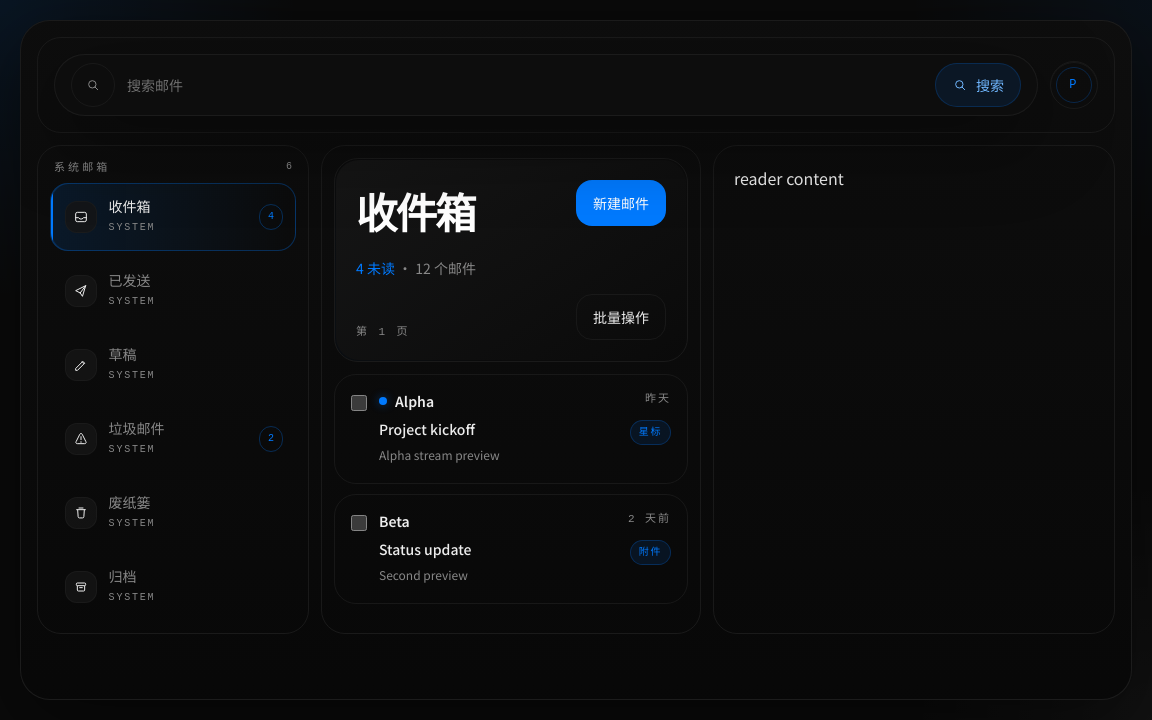
Test case: mailbox-shell › falls back from an invalid route account id before rendering the shell
Expected: the element with test id "thread-list" is shown, [321, 145, 701, 634]
Step 1. Click the button with test id "account-chip-trigger" → (1074, 85), box [1050, 61, 1098, 109]
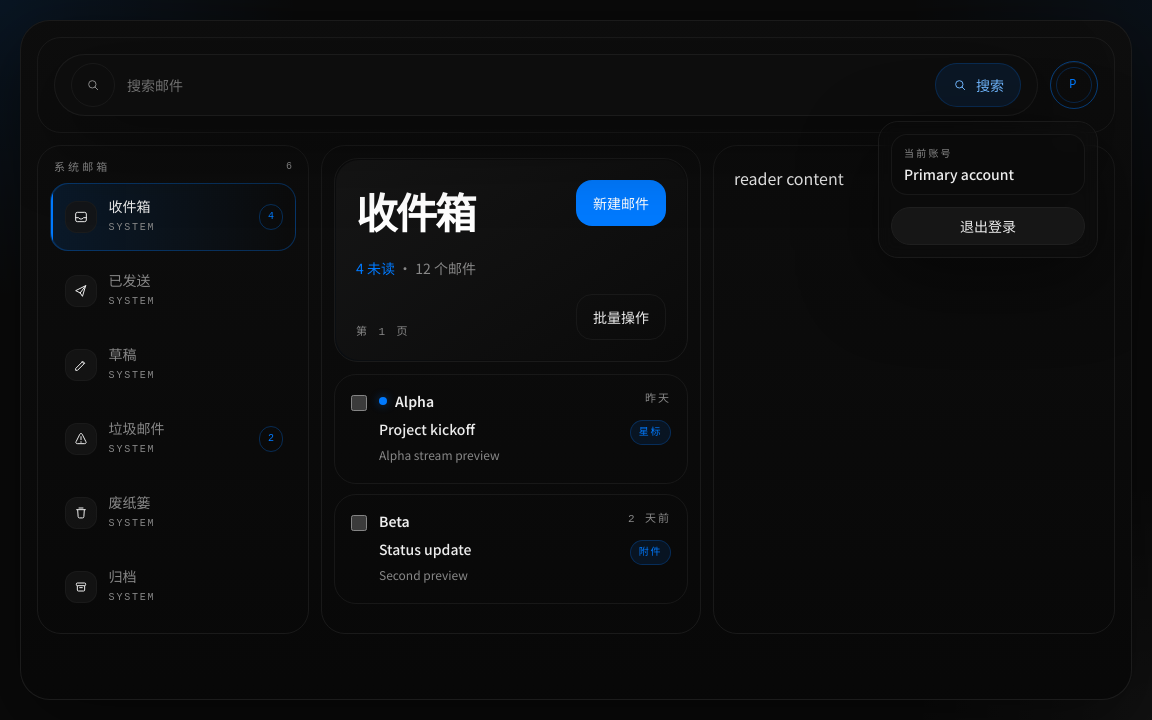
Expected: the heading "收件箱" is shown, [356, 181, 474, 241]
Now the text "Primary account" is shown, box [904, 164, 1014, 184]
